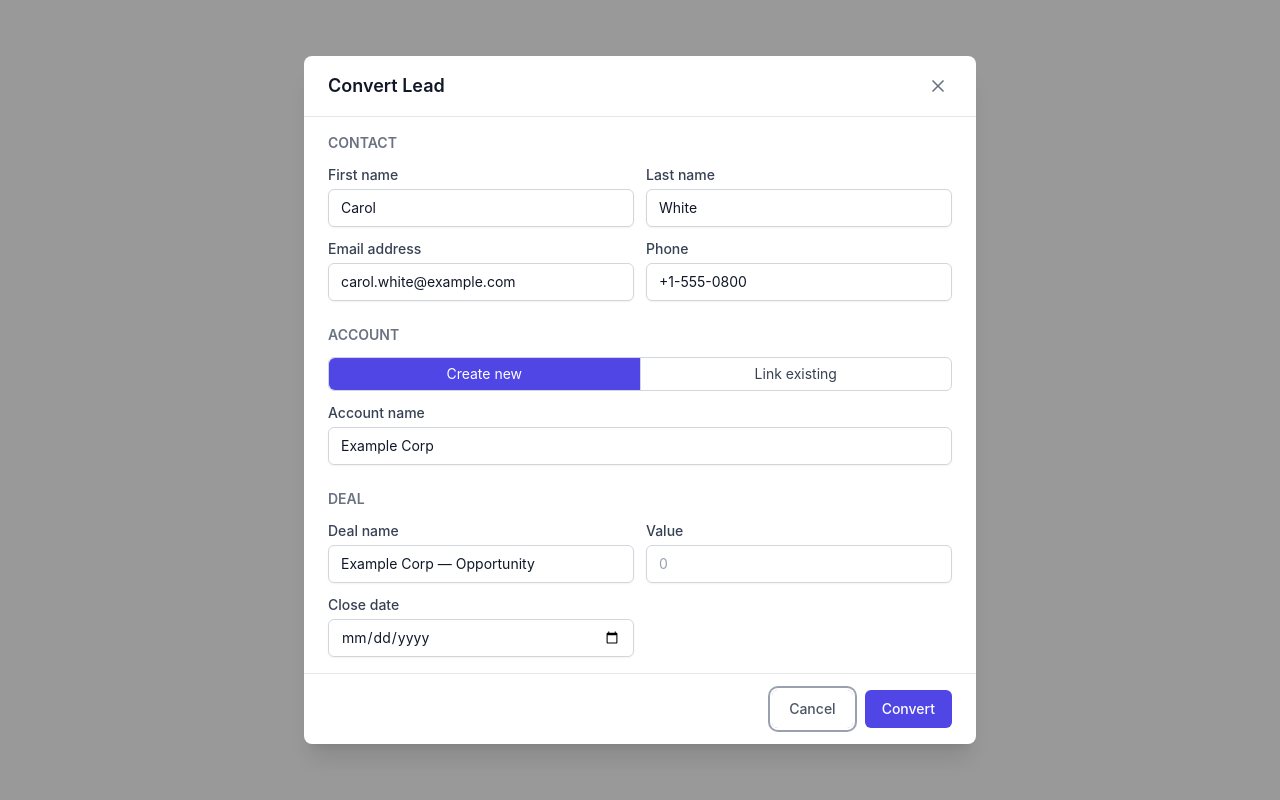
Test case: ConvertLeadModal › account mode toggle › selects an account from search results in Link mode
The image size is (1280, 800).
Click the button with test id "account-mode-link" at (795, 374), box [640, 358, 951, 390]
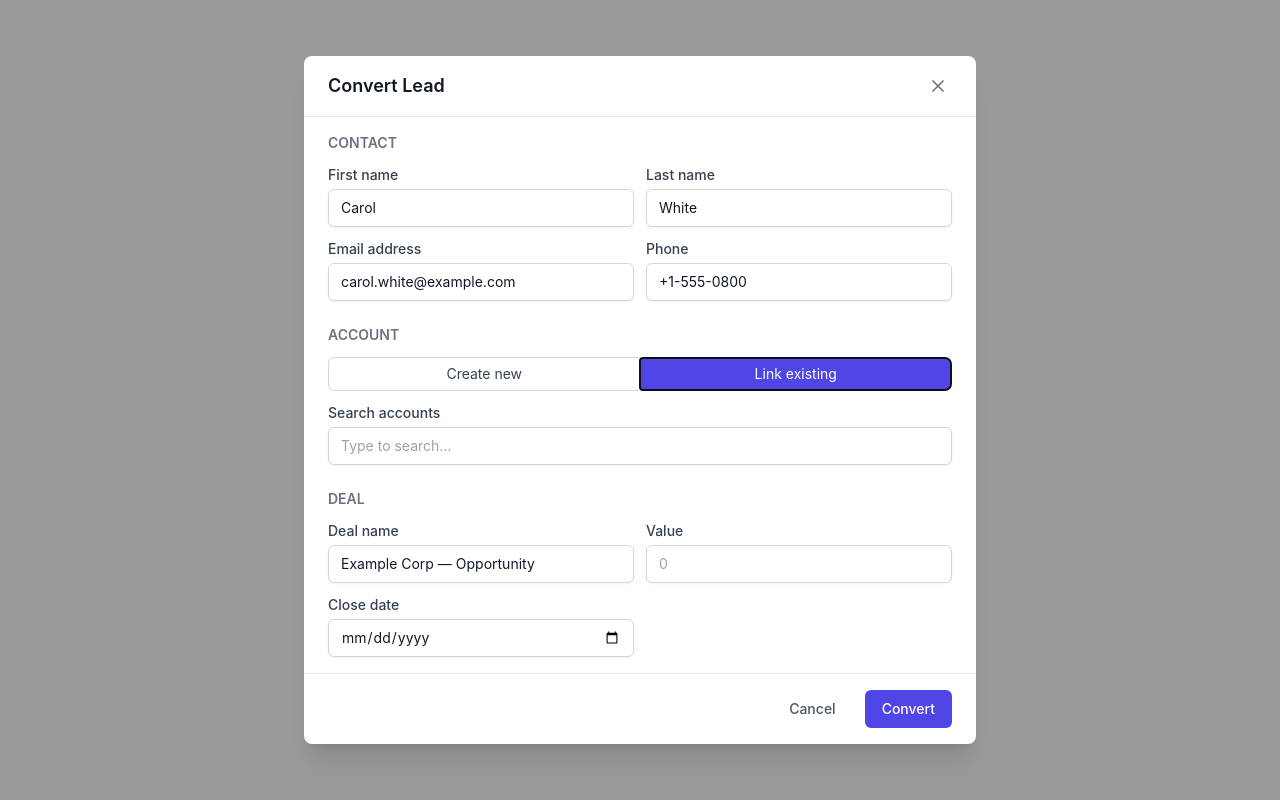
Type "Acm" into the field with test id "convert-account-search" at (640, 446), box [328, 427, 952, 465]
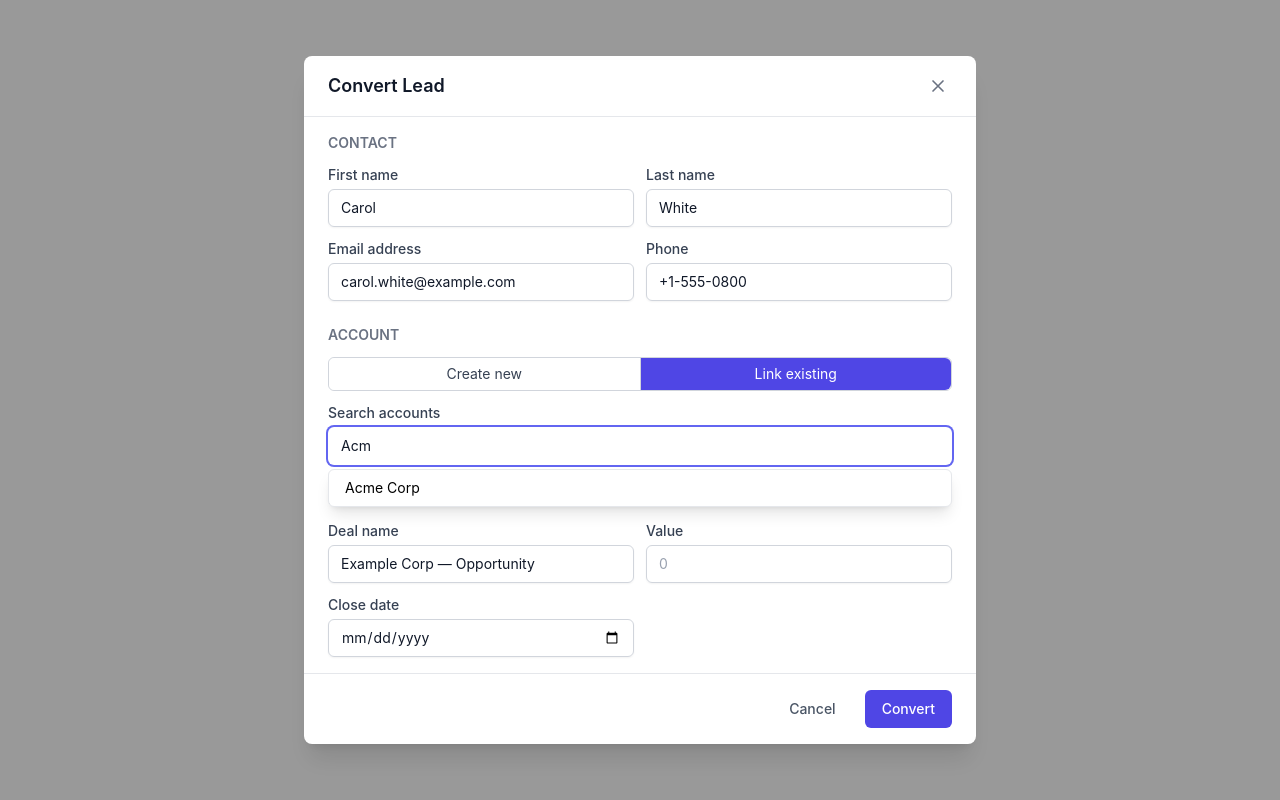
Click the button "Acme Corp" at (382, 488), box [329, 470, 951, 506]
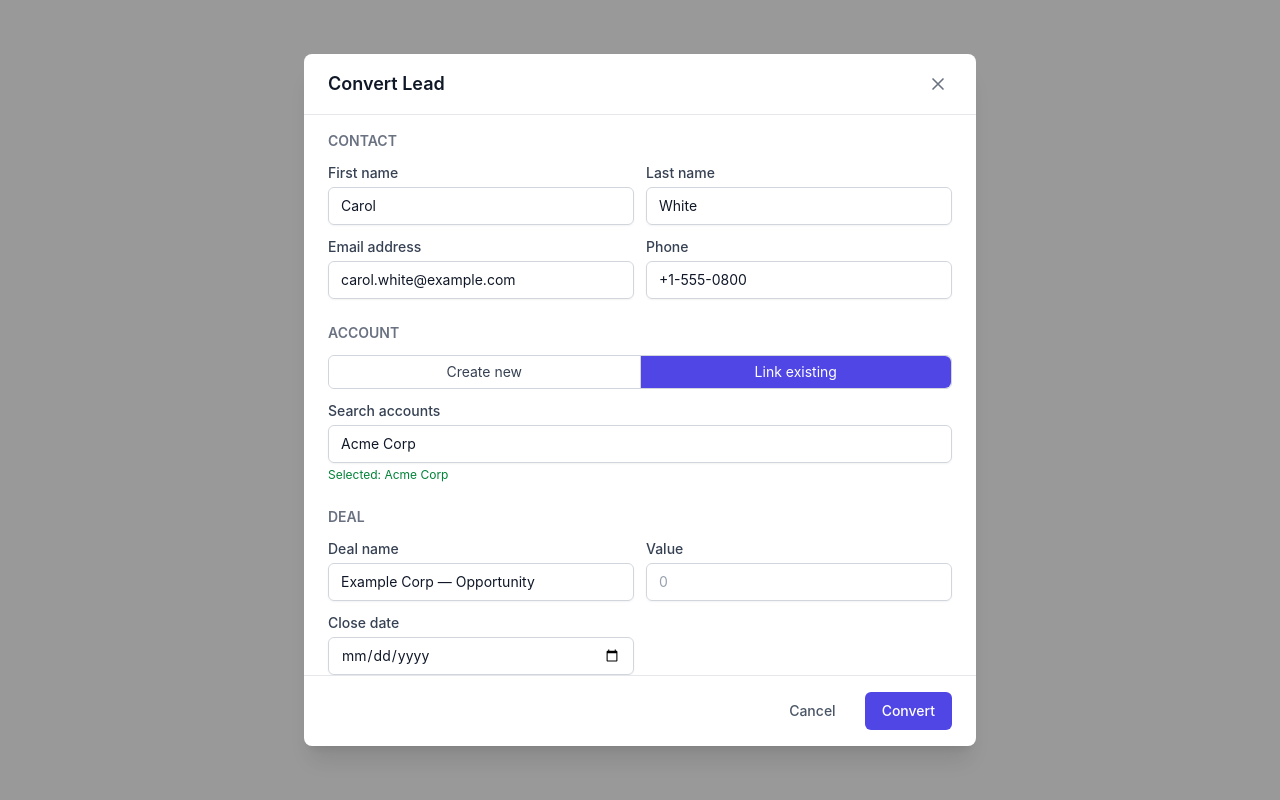
Expected: the field with test id "convert-account-search" holds "Acme Corp", [328, 425, 952, 463]
